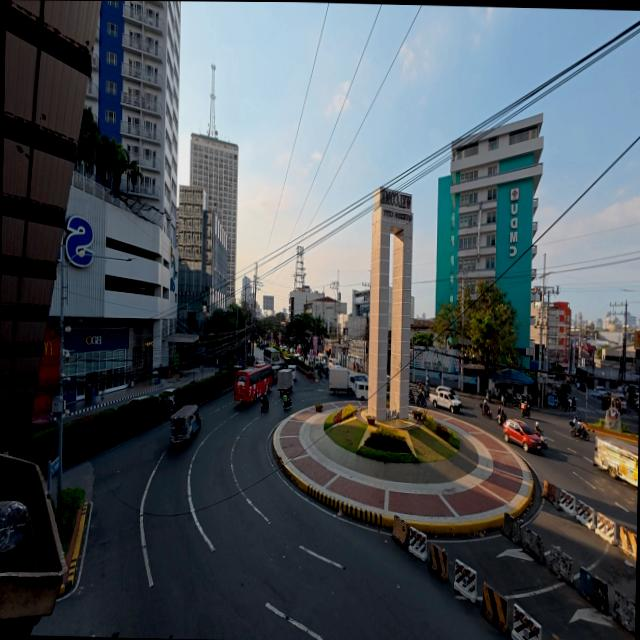Jeepneys: (593, 435, 637, 487), (170, 403, 200, 444)
bus: (233, 364, 271, 402), (263, 348, 282, 365)
car: (503, 420, 540, 451), (430, 390, 460, 412), (30, 419, 56, 433), (159, 388, 174, 404), (612, 396, 625, 412), (435, 386, 455, 396), (127, 395, 149, 404), (588, 386, 606, 396), (594, 386, 606, 394)
motorcycle: (569, 421, 589, 440), (535, 430, 547, 448), (485, 389, 499, 404), (415, 391, 426, 407), (480, 404, 491, 419), (496, 411, 506, 426), (260, 399, 268, 414), (283, 398, 291, 410), (568, 399, 575, 411), (521, 408, 529, 418), (408, 389, 414, 402)
trucks: (328, 366, 367, 398), (328, 367, 351, 394), (276, 369, 292, 395)
vans: (354, 379, 367, 400), (287, 364, 295, 381), (328, 358, 338, 367)
